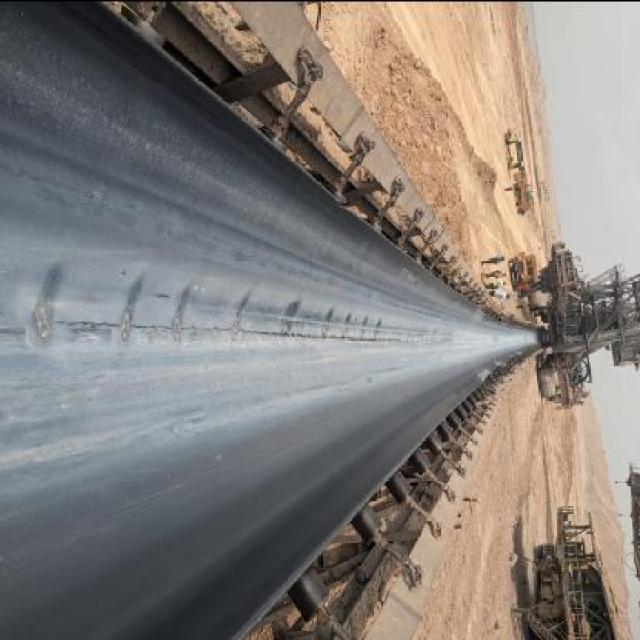Tear: (0, 309, 408, 350)
